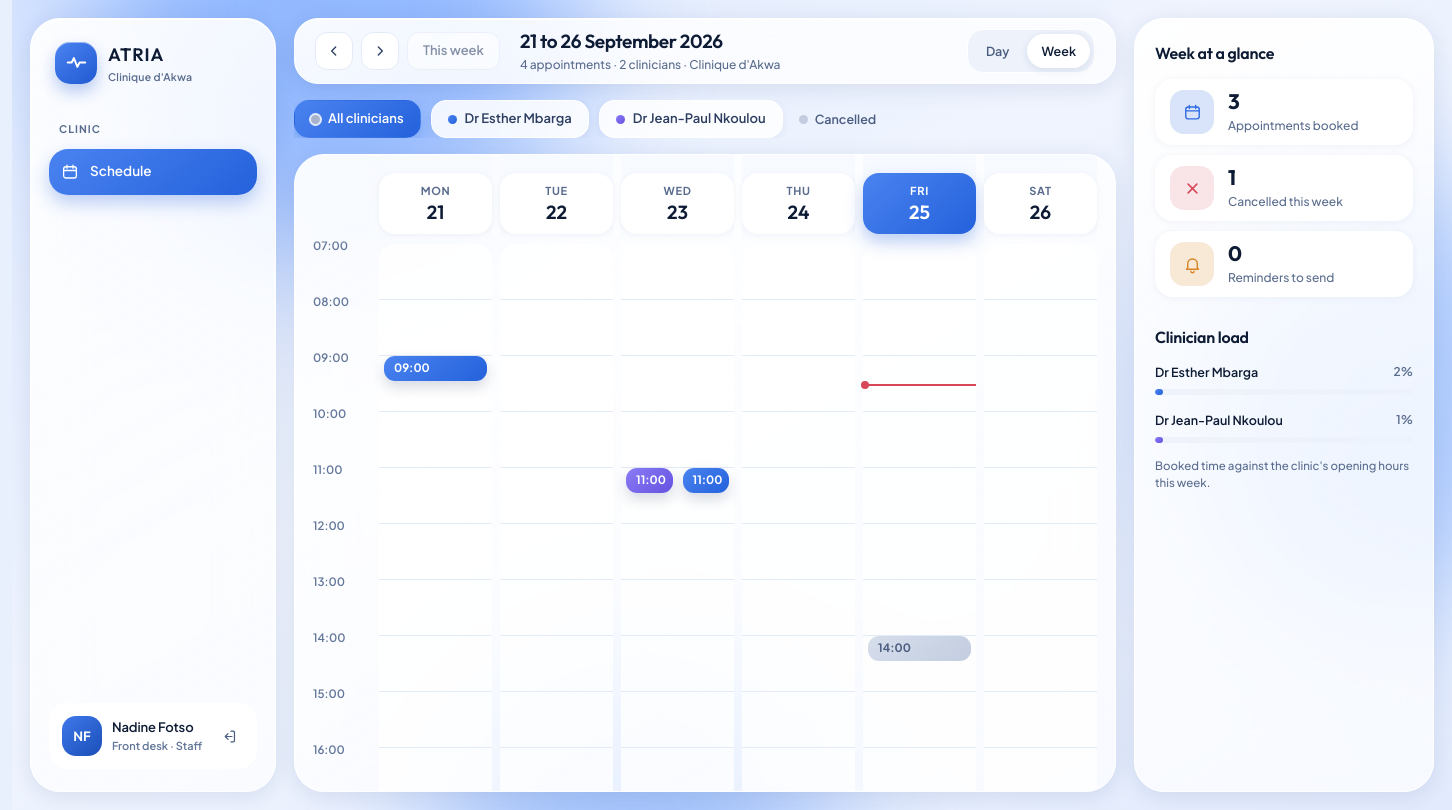
Test: Week view › opens a visit from its block
What coordinates should you click on to do the following:
click the button named "Patient A"
I would click on:
 (436, 368)
Its box is [384,356,487,380].
(page scrolled)
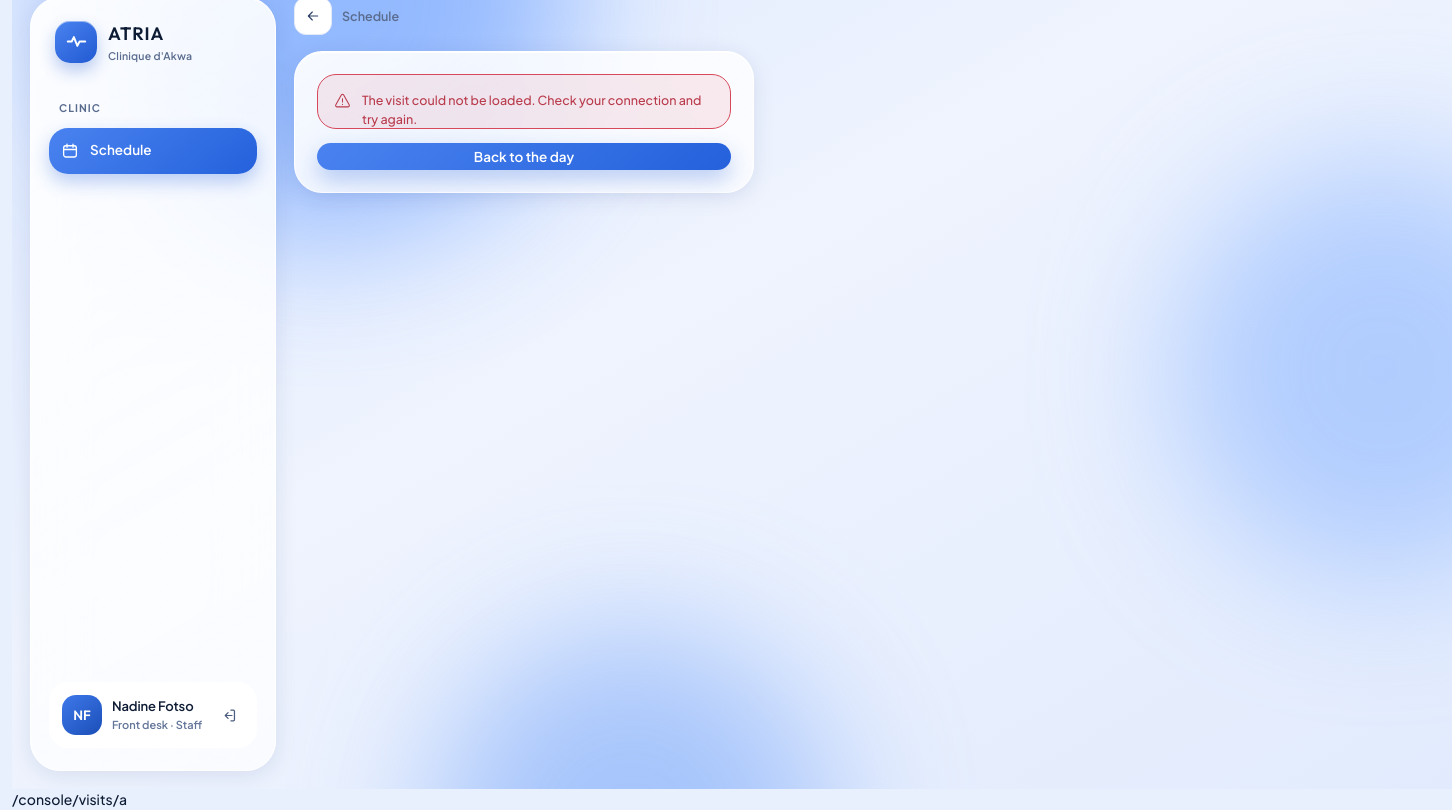
expect the text with test id "where" reads "/console/visits/a": met, box [12,790,127,808]
